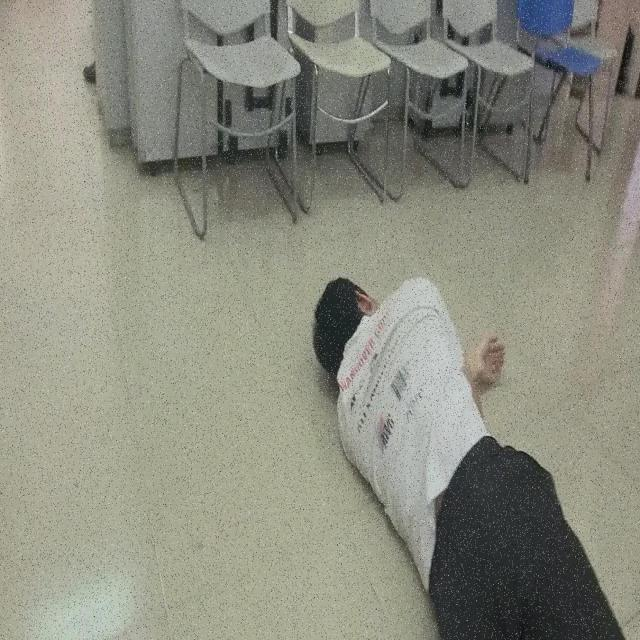fall: (308, 260, 636, 640)
